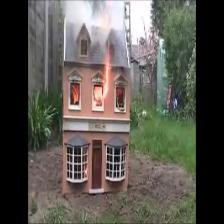fire: (95, 58, 111, 102)
smoke: (91, 15, 117, 43)
